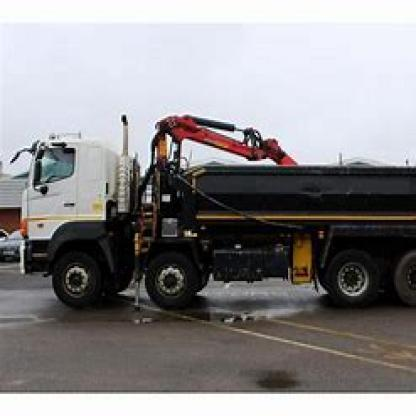dump_truck: (9, 102, 414, 314)
